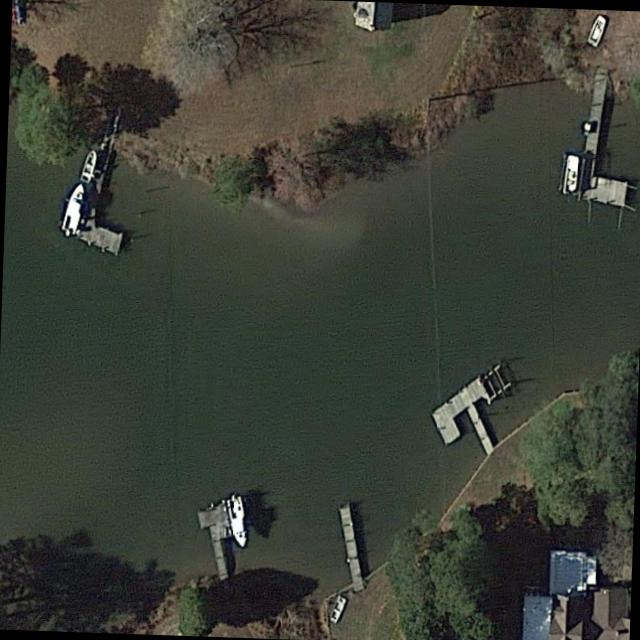ship: (224, 493, 251, 550), (59, 181, 86, 235), (585, 13, 608, 49), (77, 148, 97, 185), (561, 153, 578, 196), (327, 592, 347, 625)
